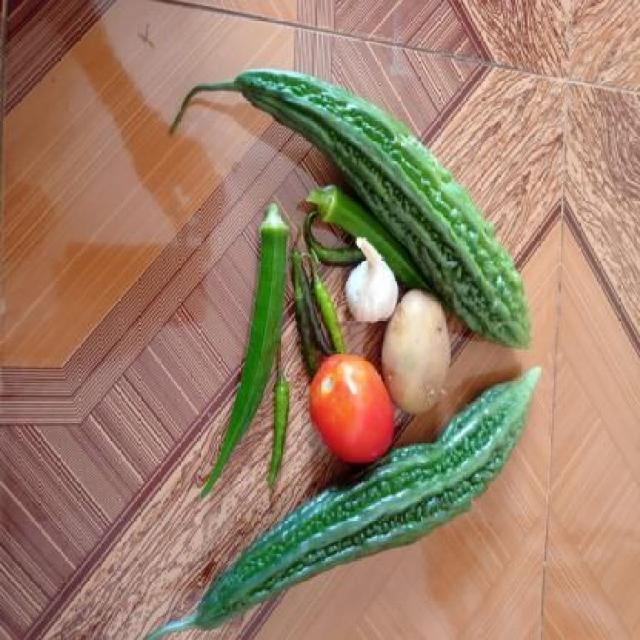Bitter melon: (197, 424, 508, 626), (243, 72, 462, 230)
Garlic: (343, 235, 399, 323)
Green Chili: (268, 362, 298, 500)
Lady finger: (238, 177, 290, 437)
Potato: (378, 281, 457, 414)
Tomato: (309, 357, 397, 460)
